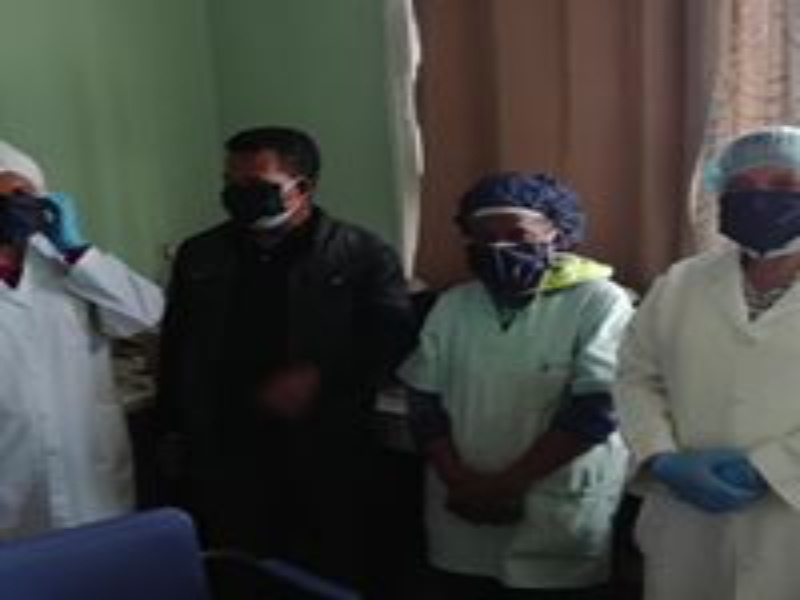TsisyArotava: (460, 159, 564, 316), (207, 110, 326, 240)
